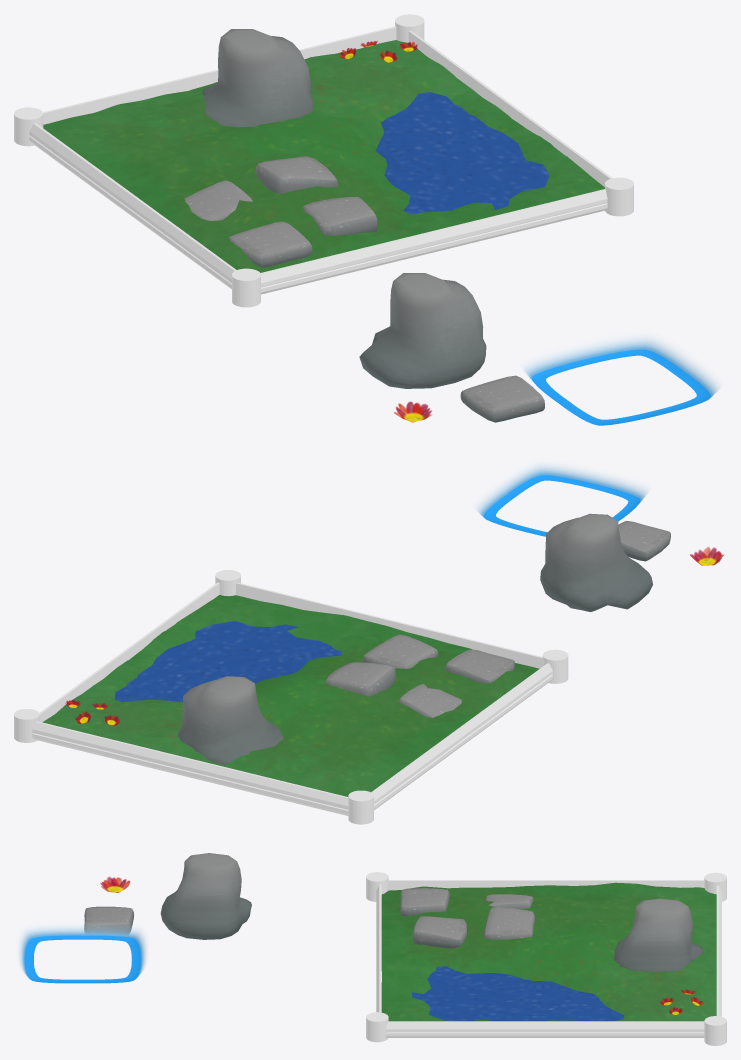
File: resources.glb
The picture shows the model from 3 angles, top to bottom: view 1: azimuth 30°, elevation 25°; view 2: azimuth 150°, elevation 25°; view 3: azimuth 270°, elevation 25°; orthographic projection. The views are drawn at different scales.
Parts seen in each view (by area): view 1: ground, Cylinder, big_rock, cursor, pavement_stone; view 2: ground, Cylinder, big_rock, cursor, pavement_stone; view 3: ground, Cylinder, big_rock, cursor, pavement_stone, flower.
Part boxes in pixels (x1=…): ground: x1=43, y1=29, x2=604, y2=272; Cylinder: x1=14, y1=14, x2=633, y2=307; big_rock: x1=359, y1=273, x2=486, y2=388; cursor: x1=522, y1=335, x2=720, y2=425; pavement_stone: x1=460, y1=375, x2=544, y2=422; ground: x1=42, y1=595, x2=539, y2=796; Cylinder: x1=14, y1=570, x2=568, y2=824; big_rock: x1=540, y1=513, x2=652, y2=611; cursor: x1=475, y1=462, x2=648, y2=536; pavement_stone: x1=618, y1=521, x2=670, y2=561; ground: x1=381, y1=882, x2=716, y2=1021; Cylinder: x1=366, y1=872, x2=726, y2=1045; big_rock: x1=160, y1=853, x2=251, y2=939; cursor: x1=18, y1=925, x2=147, y2=983; pavement_stone: x1=84, y1=906, x2=133, y2=934; flower: x1=100, y1=877, x2=130, y2=892.
Bounding box in the file's own units: 33.05 × 8.37 × 63.29.
3 materials, 2 textured.
